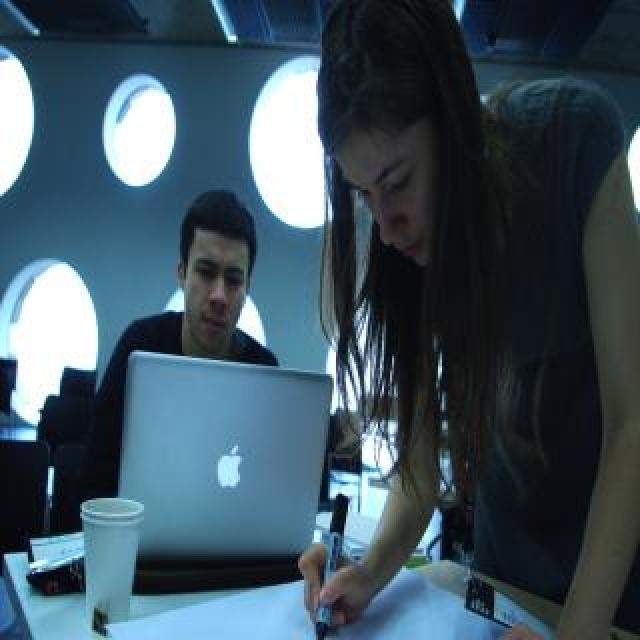laptop_computer: (93, 332, 330, 580)
